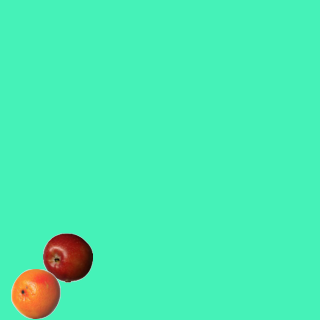Apple Braeburn: (42, 232, 92, 282)
Grapefruit Pink: (10, 268, 60, 318)
